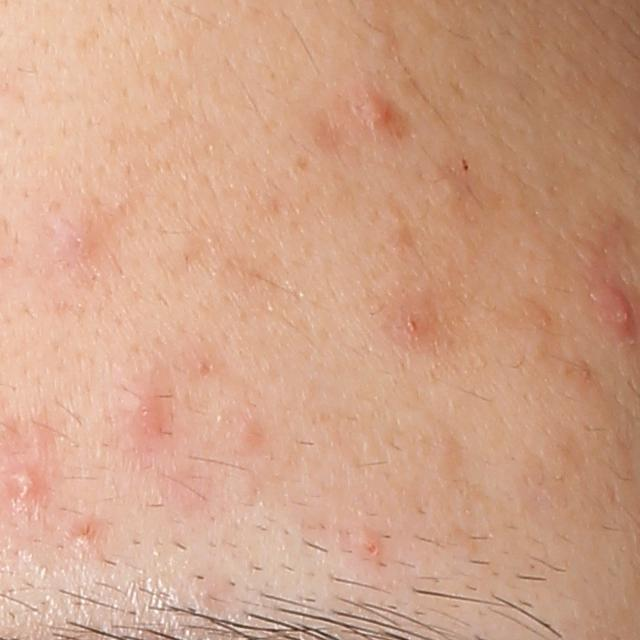comedo: (372, 21, 401, 55)
papule: (51, 216, 105, 263), (121, 385, 165, 432), (360, 96, 399, 128)
pustule: (6, 467, 45, 499)
